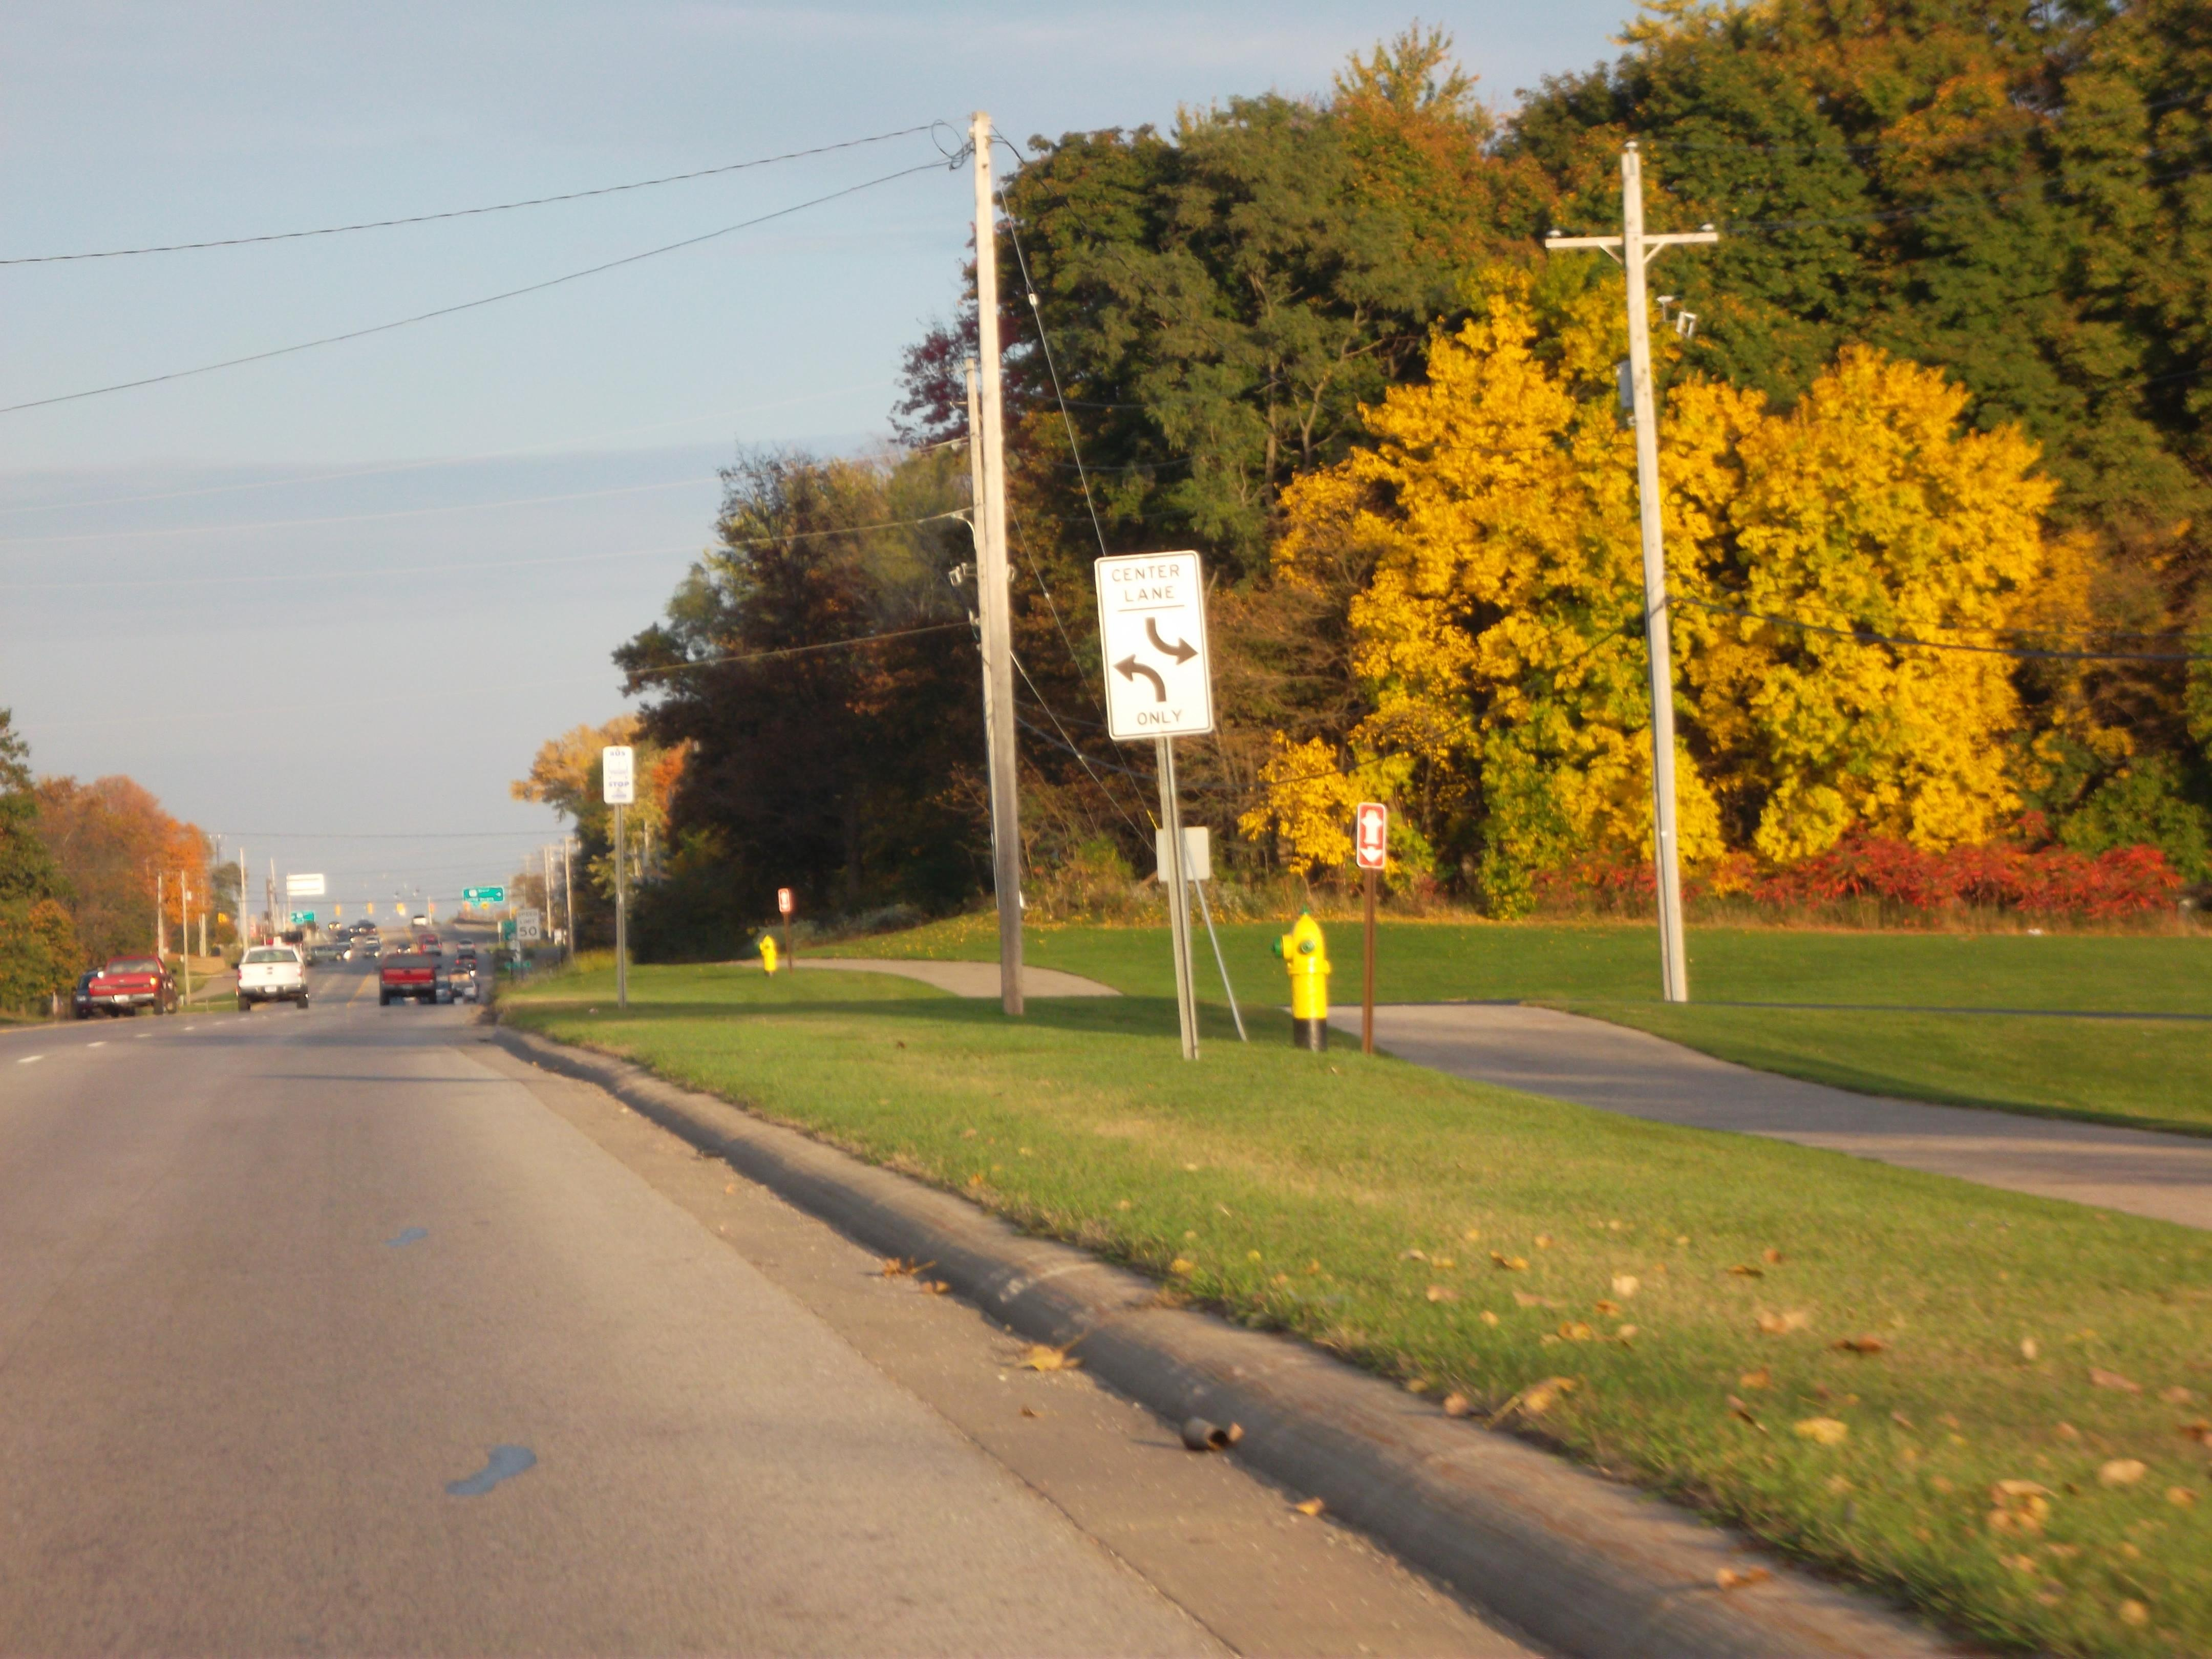regulatory: (1092, 547, 1223, 741)
